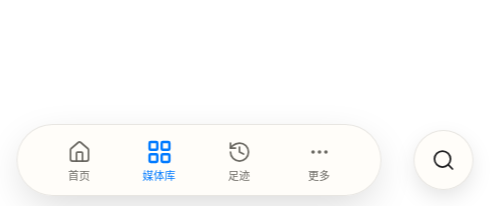
Test: floating dock accent › leaves no hardcoded color on any dock surface
Click the button "更多". click: point(319, 160)
box: [287,132,351,188]
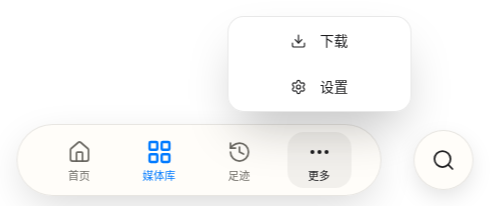
Expected: the element showing "下载 设置" is shown, [227,16,411,112]
